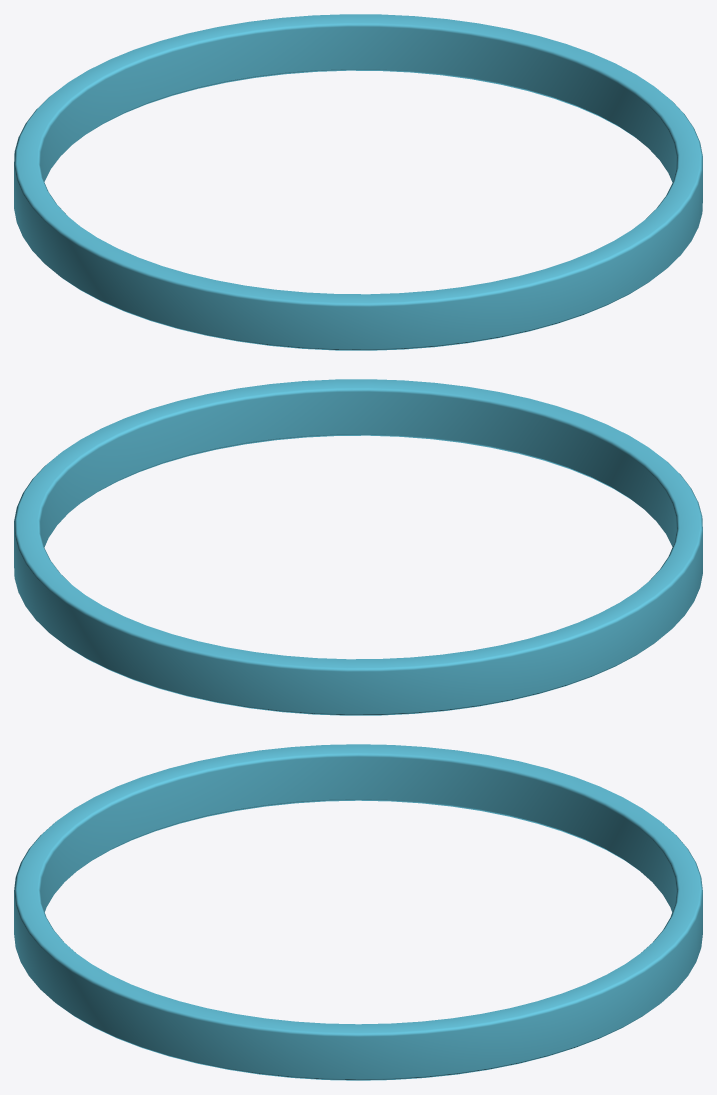
3 renders of one model, top to bottom at view 1: azimuth 30°, elevation 25°; view 2: azimuth 150°, elevation 25°; view 3: azimuth 270°, elevation 25°, orthographic.
Visible parts, largest first — view 1: seal_body; view 2: seal_body; view 3: seal_body.
Boxes of the visible parts, x1,y1,x2,y2 form: seal_body: [14, 14, 702, 350]; seal_body: [14, 379, 702, 715]; seal_body: [14, 744, 702, 1080].
Bounding box in the file's own units: 0.1238 × 0.00952 × 0.1238.
